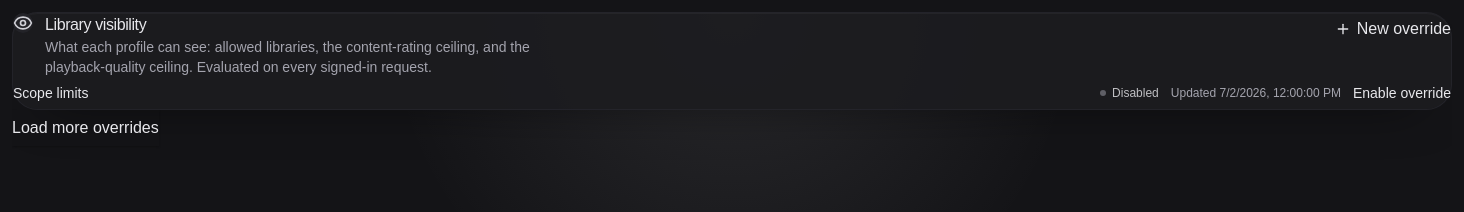
it: PolicyDocumentList › loads additional documents only on request
The image size is (1464, 212).
Check: the text "Scope limits" is shown, box [13,85,88,101]
Check: the text "Older override" is not shown
Step 1. Click the button "Load more overrides" → coordinates (85, 128), box [12,110,159,146]
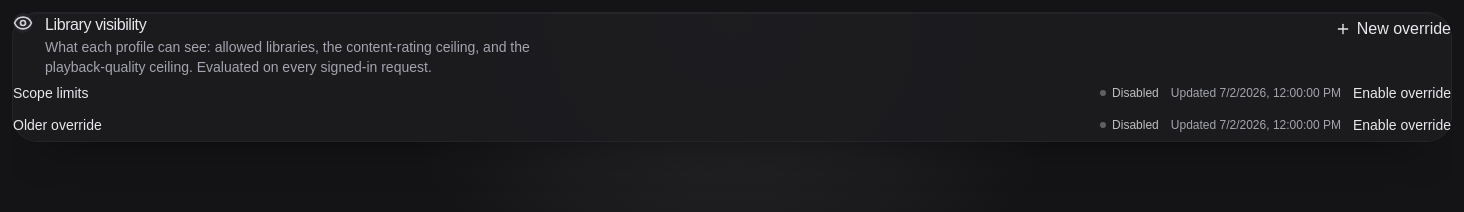
Check: the text "Older override" is shown, box [13,117,102,133]
